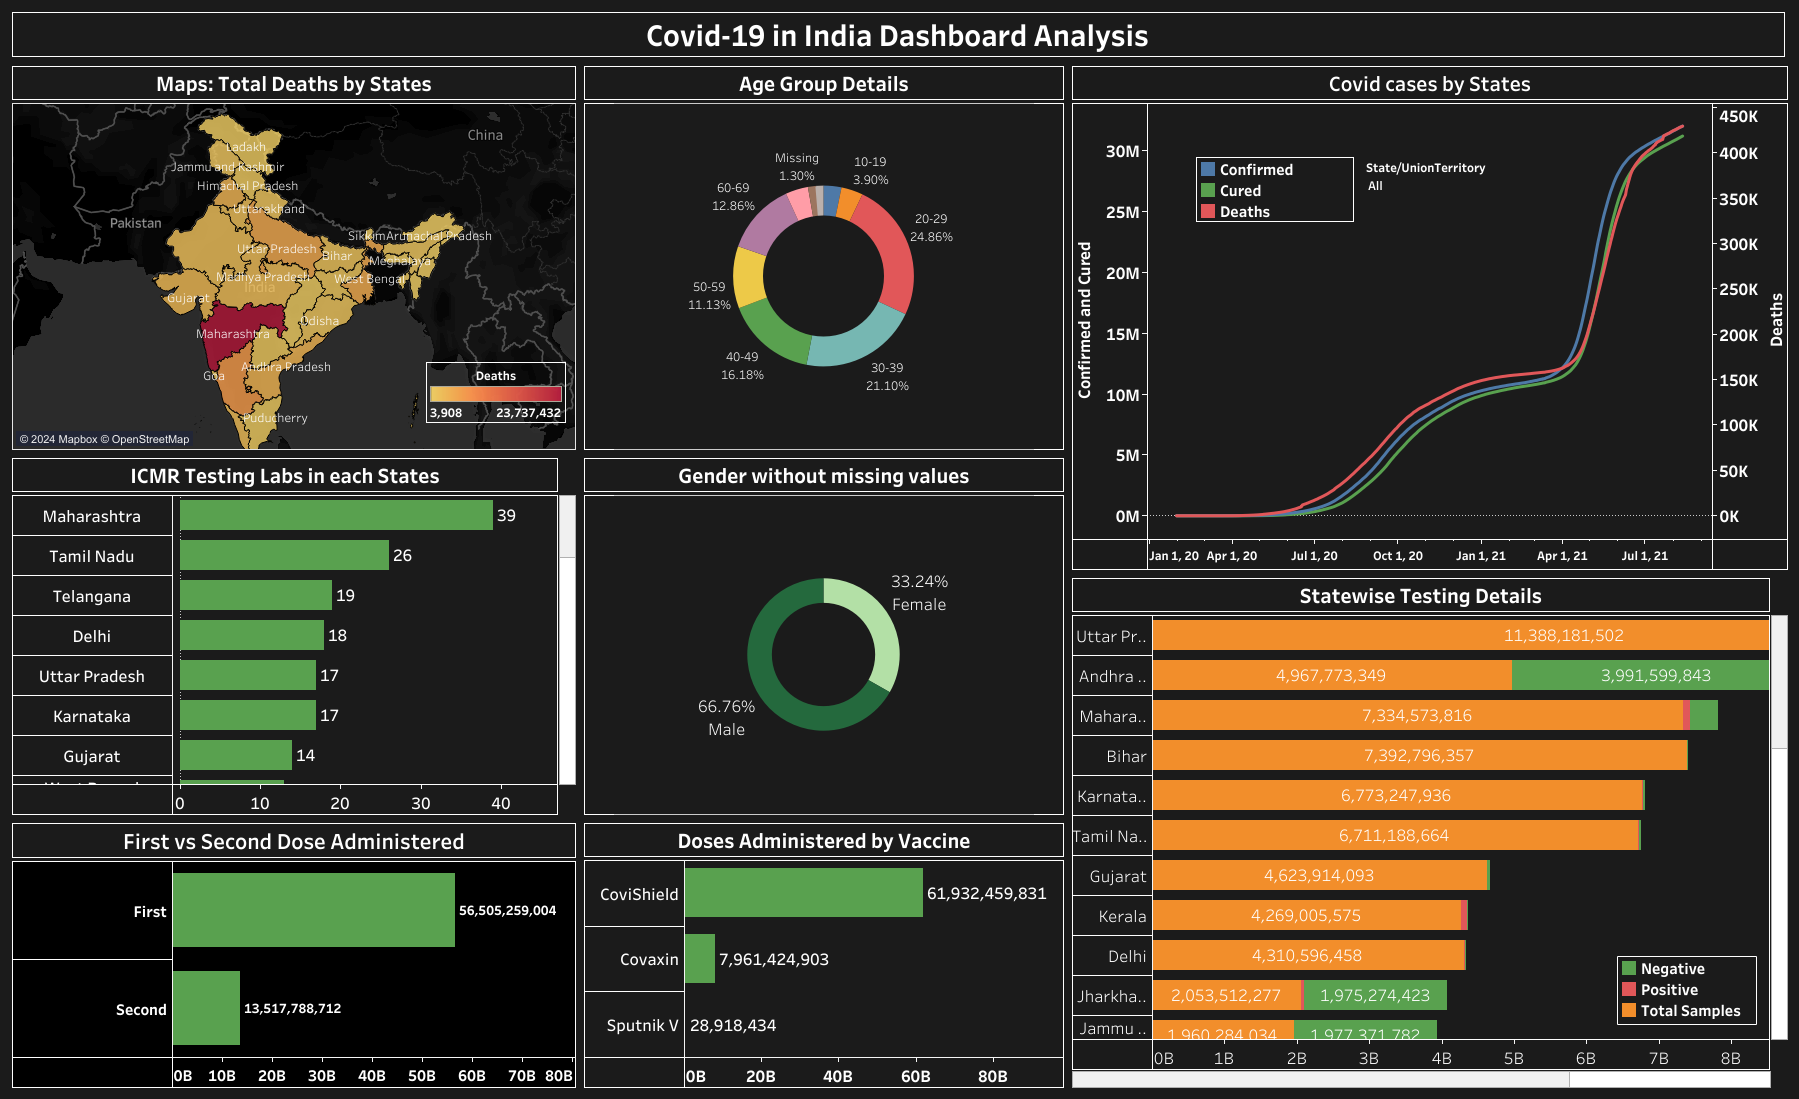

The page's visual inventory and layout, read from the dashboard file:
{"tool":"tableau","page":{"name":"Dashboard 1","canvas":[1800,1100],"ordinal":0},"visuals":[{"type":"worksheet","title":"Title","mark":"Automatic","box":[8,8,1784,54]},{"type":"worksheet","title":"Maps: Total Deaths by States","mark":"Automatic","box":[8,62,571.8,392.1]},{"type":"worksheet","title":"Age Group Details","mark":"Pie","rows":["Calculation_1316458517703081985","Calculation_1316458517703172099"],"box":[579.8,62,488.4,392.1]},{"type":"worksheet","title":"Covid cases by States","mark":"Automatic","rows":["Deaths"],"cols":["Date"],"box":[1068.2,62,723.8,512]},{"type":"legend","title":"Covid cases by States","param":"[federated.0e6ko4i0ygpwll1f5mcxc02rtvti].[:Measure Names]","box":[1196,157,158,69]},{"type":"filter","title":"Covid cases by States","param":"[federated.0e6ko4i0ygpwll1f5mcxc02rtvti].[none:State/UnionTerritory:nk]","box":[1366,157,180,70]},{"type":"legend","title":"Maps: Total Deaths by States","param":"[federated.0e6ko4i0ygpwll1f5mcxc02rtvti].[sum:Deaths:qk]","box":[426,362,140,76]},{"type":"worksheet","title":"ICMR Testing Labs in each States","mark":"Automatic","rows":["state"],"cols":["lab"],"box":[8,454.1,572,364.9]},{"type":"worksheet","title":"Gender without missing values","mark":"Pie","rows":["Calculation_1316458517707063301","Calculation_1316458517707063301"],"box":[580,454.1,488.2,364.9]},{"type":"worksheet","title":"Statewise Testing Details","mark":"Automatic","rows":["State"],"box":[1068.2,574,723.8,518]},{"type":"worksheet","title":"First vs Second Dose Administered","mark":"Automatic","box":[8,819,572,273]},{"type":"worksheet","title":"Doses Administered by Vaccine","mark":"Automatic","box":[580,819,488.2,273]},{"type":"legend","title":"Statewise Testing Details","param":"[federated.1g4u0lk1syi4320zlos7l048oslf].[:Measure Names]","box":[1617,956,140,69]}]}

Visuals, with their boxes in screenshot pixels (x1, y1, x2, y2), scaled from the page's 1800x1100 canvas onto the 1799x1099 screenshot:
"Title" worksheet: detection(8, 8, 1791, 62)
"Maps: Total Deaths by States" worksheet: detection(8, 62, 579, 454)
"Age Group Details" worksheet (Pie marks): detection(579, 62, 1068, 454)
"Covid cases by States" worksheet: detection(1068, 62, 1791, 573)
"Covid cases by States" legend: detection(1195, 157, 1353, 226)
"Covid cases by States" filter: detection(1365, 157, 1545, 227)
"Maps: Total Deaths by States" legend: detection(426, 362, 566, 438)
"ICMR Testing Labs in each States" worksheet: detection(8, 454, 580, 818)
"Gender without missing values" worksheet (Pie marks): detection(580, 454, 1068, 818)
"Statewise Testing Details" worksheet: detection(1068, 573, 1791, 1091)
"First vs Second Dose Administered" worksheet: detection(8, 818, 580, 1091)
"Doses Administered by Vaccine" worksheet: detection(580, 818, 1068, 1091)
"Statewise Testing Details" legend: detection(1616, 955, 1756, 1024)
